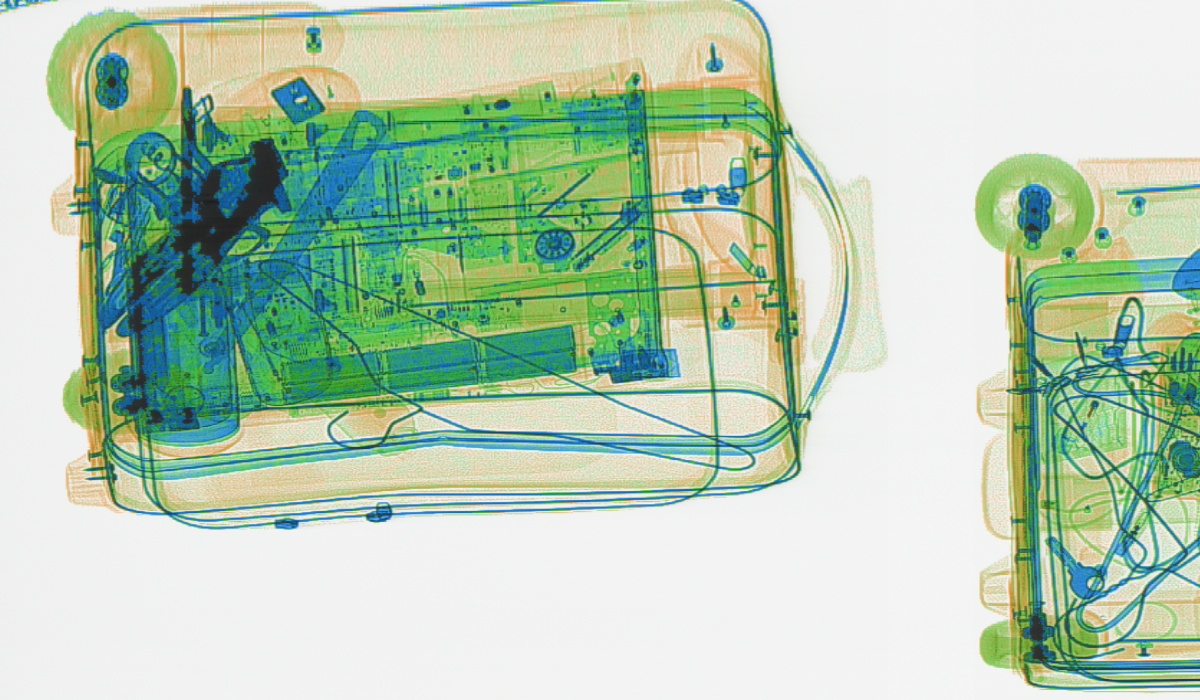lighter: (1048, 348, 1119, 454)
